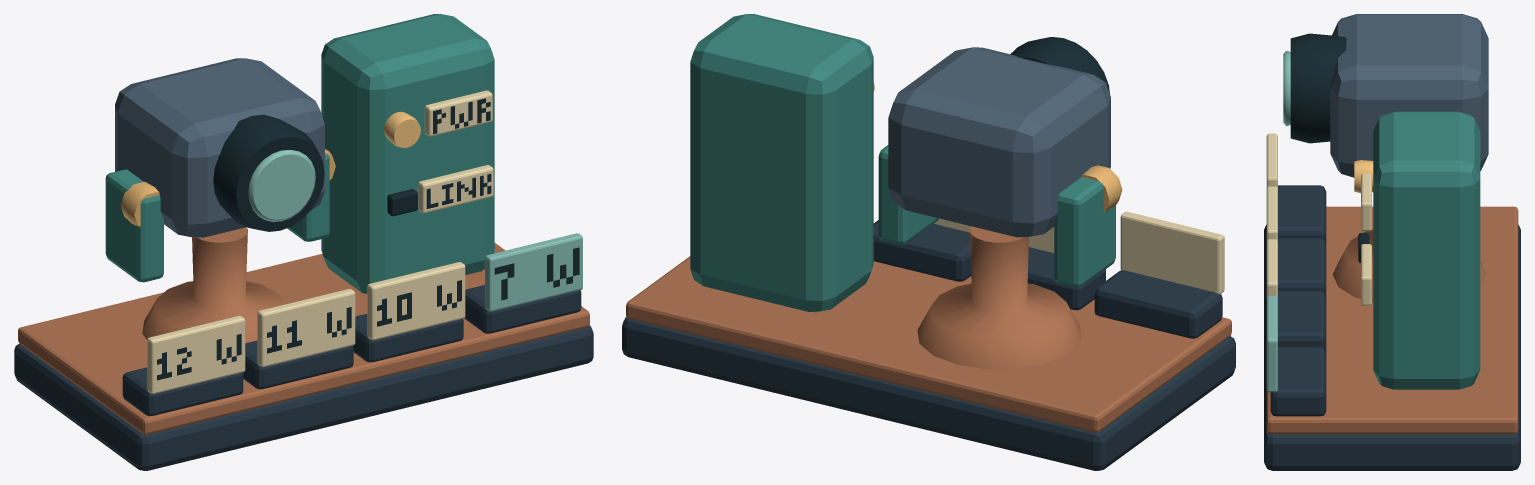
3 renders of one model, left to right at view 1: azimuth 30°, elevation 25°; view 2: azimuth 150°, elevation 25°; view 3: azimuth 270°, elevation 25°, orthographic. The views are drawn at different scales.
Parts seen in each view (by area): view 1: PR085 enamel and hardware; view 2: PR085 enamel and hardware; view 3: PR085 enamel and hardware.
Boxes of the visible parts, x1,y1,x2,y2 form: PR085 enamel and hardware: [14, 14, 593, 470]; PR085 enamel and hardware: [622, 14, 1235, 470]; PR085 enamel and hardware: [1264, 14, 1520, 470].
Bounding box in the file's own units: 1.2 × 0.7428 × 0.595.
